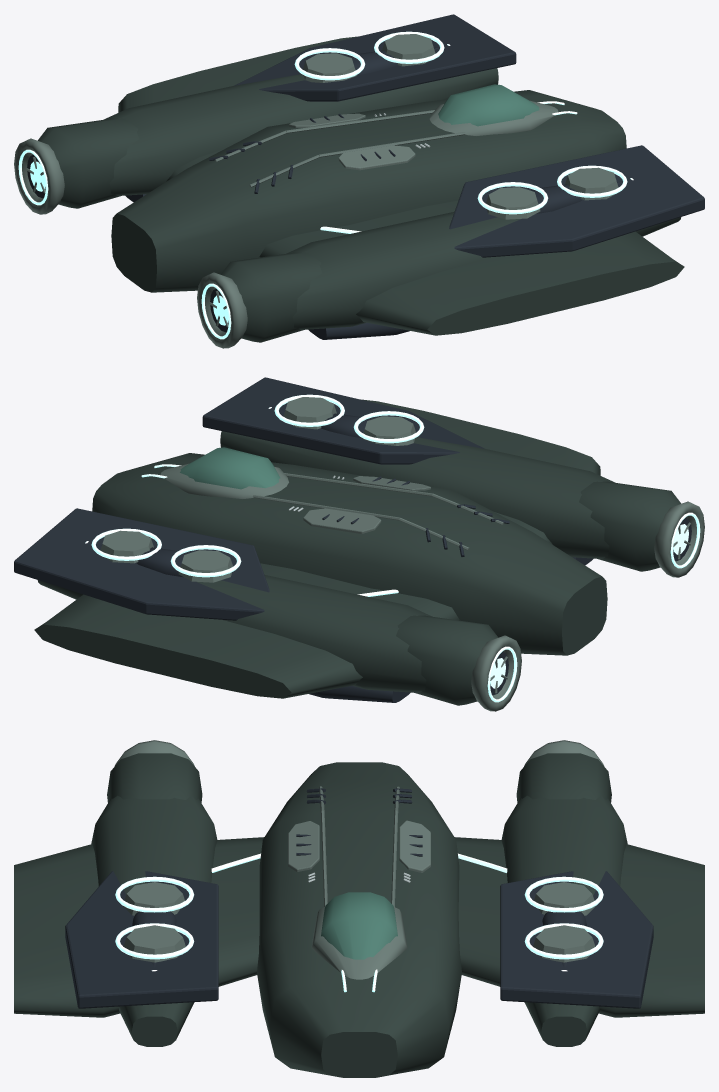
The model's file is architect.glb.
3 views of the same model, one above another, from view 1: azimuth 30°, elevation 25°; view 2: azimuth 150°, elevation 25°; view 3: azimuth 270°, elevation 25° (orthographic). The views are drawn at different scales.
Parts seen in each view (by area): view 1: hull Hull paint, hull Graphite heat armour, wing Hull paint, hull Brushed panel alloy, engine Brushed panel alloy, hull Hull guidance, hull Smoked canopy, engine Hull guidance, mount Graphite heat armour; view 2: hull Hull paint, hull Graphite heat armour, wing Hull paint, hull Brushed panel alloy, engine Brushed panel alloy, hull Hull guidance, hull Smoked canopy, engine Hull guidance, mount Graphite heat armour; view 3: hull Hull paint, wing Hull paint, hull Graphite heat armour, hull Brushed panel alloy, hull Smoked canopy, hull Hull guidance, engine Brushed panel alloy, mount Graphite heat armour, wing Hull guidance.
Part boxes in pixels (<box>): hull Hull paint: <box>37,68,681,342</box>; hull Graphite heat armour: <box>125,14,704,339</box>; wing Hull paint: <box>118,36,684,335</box>; hull Brushed panel alloy: <box>215,34,618,219</box>; engine Brushed panel alloy: <box>14,138,247,348</box>; hull Hull guidance: <box>294,31,627,214</box>; hull Smoked canopy: <box>438,84,539,126</box>; engine Hull guidance: <box>18,149,231,339</box>; mount Graphite heat armour: <box>348,47,622,213</box>; hull Hull paint: <box>37,431,681,705</box>; hull Graphite heat armour: <box>14,377,593,702</box>; wing Hull paint: <box>34,399,600,698</box>; hull Brushed panel alloy: <box>100,397,503,582</box>; engine Brushed panel alloy: <box>471,501,704,711</box>; hull Hull guidance: <box>91,394,424,577</box>; hull Smoked canopy: <box>180,447,280,489</box>; engine Hull guidance: <box>487,512,700,702</box>; mount Graphite heat armour: <box>91,410,370,577</box>; hull Hull paint: <box>91,753,627,1077</box>; wing Hull paint: <box>14,837,704,1017</box>; hull Graphite heat armour: <box>65,788,653,1008</box>; hull Brushed panel alloy: <box>123,786,595,979</box>; hull Smoked canopy: <box>321,892,397,959</box>; hull Hull guidance: <box>115,876,603,992</box>; engine Brushed panel alloy: <box>115,740,603,766</box>; mount Graphite heat armour: <box>132,911,586,968</box>; wing Hull guidance: <box>211,853,507,872</box>.
Bounding box in the file's own units: 49.02 × 12.17 × 54.
